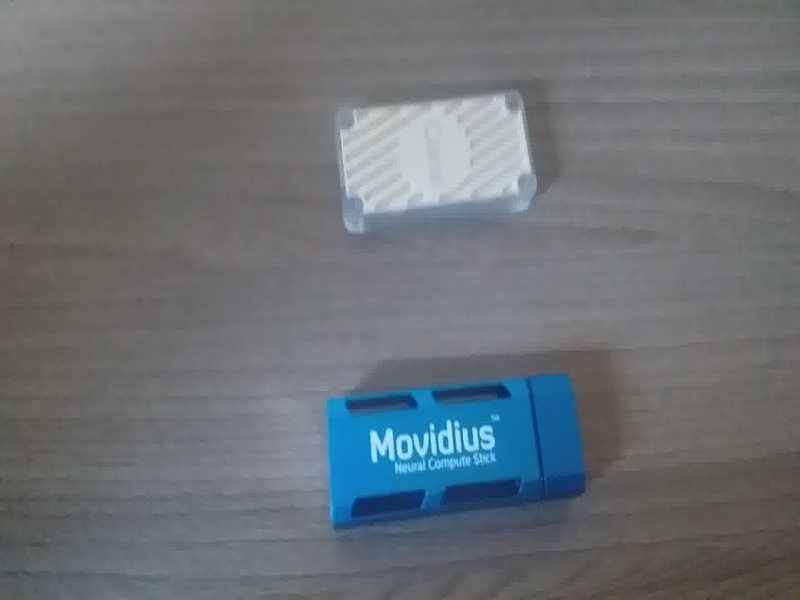coral: (332, 81, 548, 243)
movidius: (315, 372, 599, 532)
